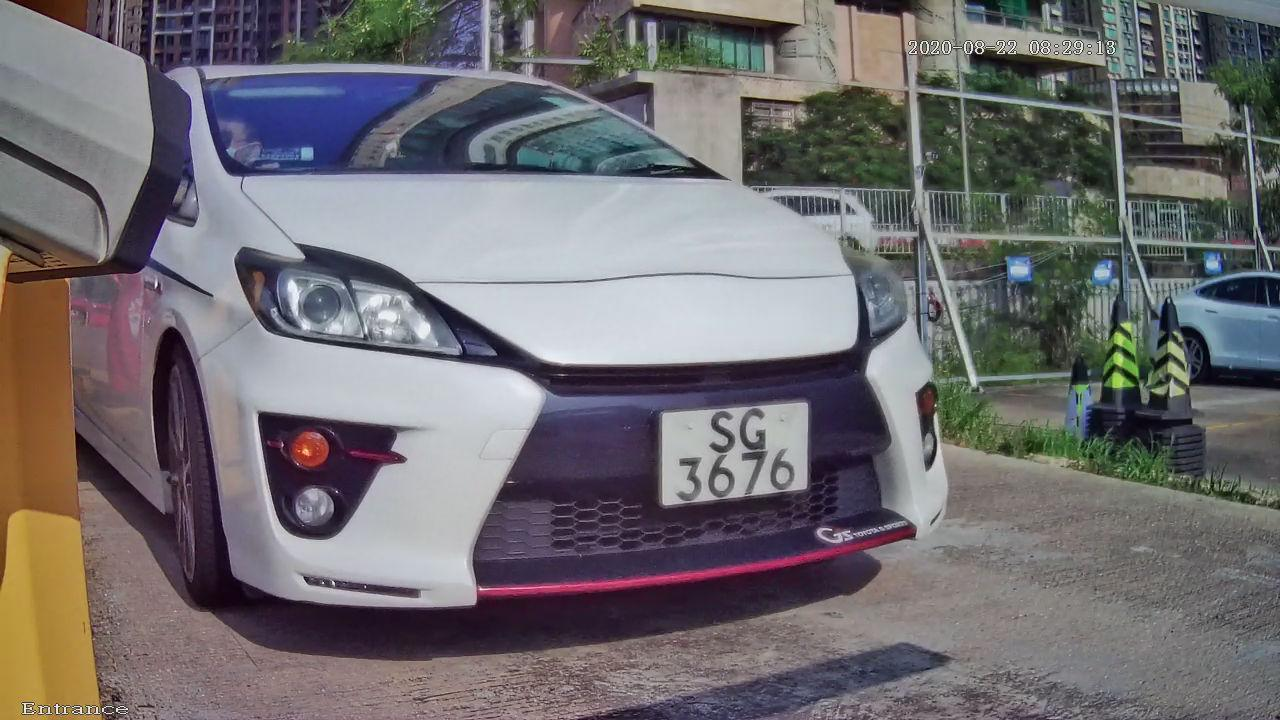License Plate: (646, 383, 835, 528)
